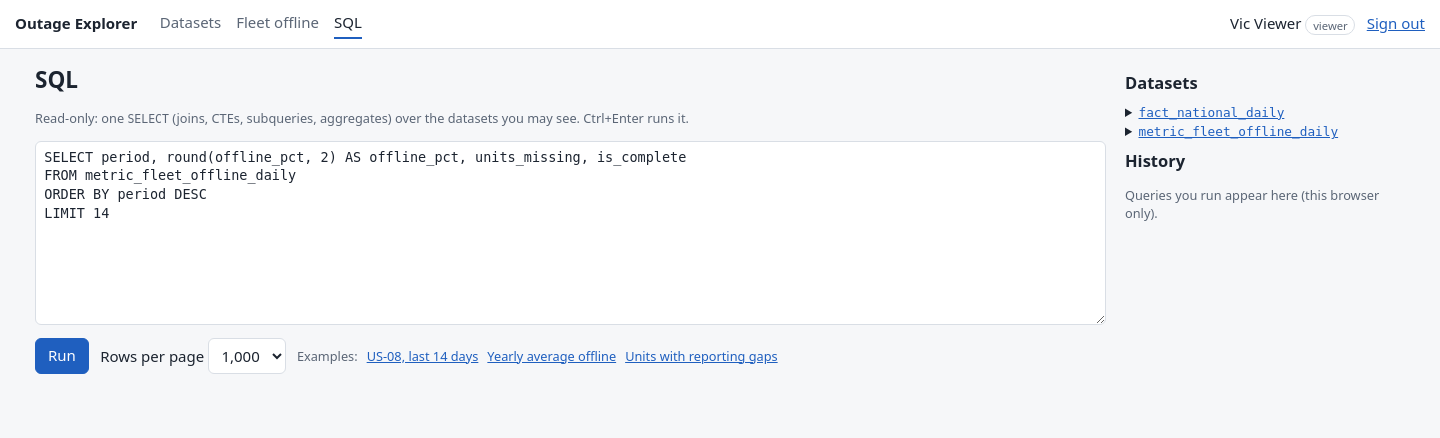
Test case: SQL page › shows a refused table as 'not allowed'
Replace the text in the text box named "SQL query" with "SELECT * FROM fact_generator_daily" at point(571, 232), box [35, 140, 1106, 324]
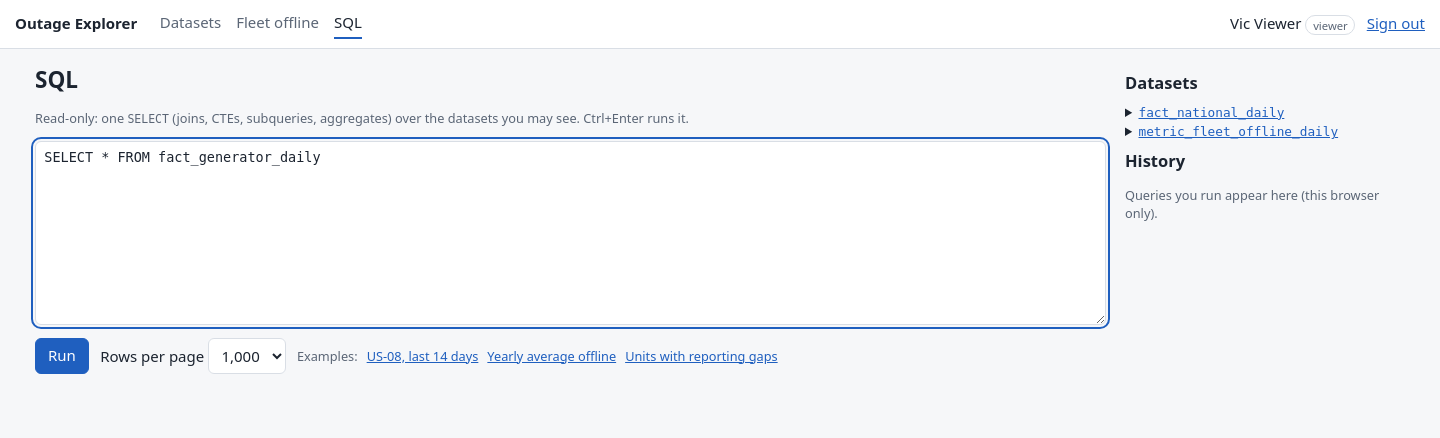
Click the button "Run".
click(62, 356)  # box [35, 338, 89, 374]
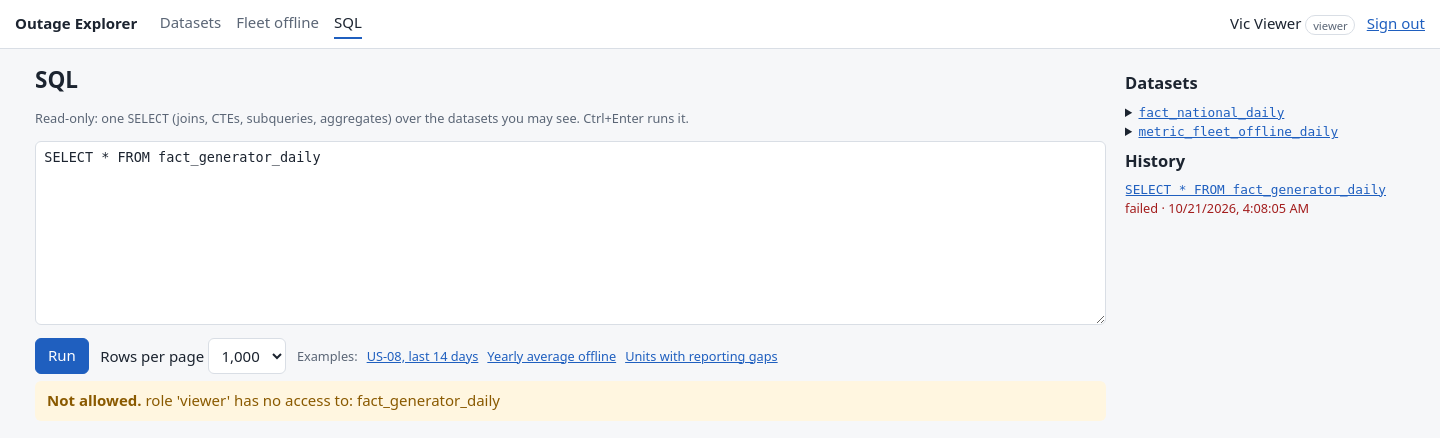
Result: the message reads "Not allowed. role 'viewer' has no access to: fact_generator_daily" at [35, 381, 1106, 421]
